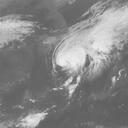cyclone: (51, 33, 88, 76)
